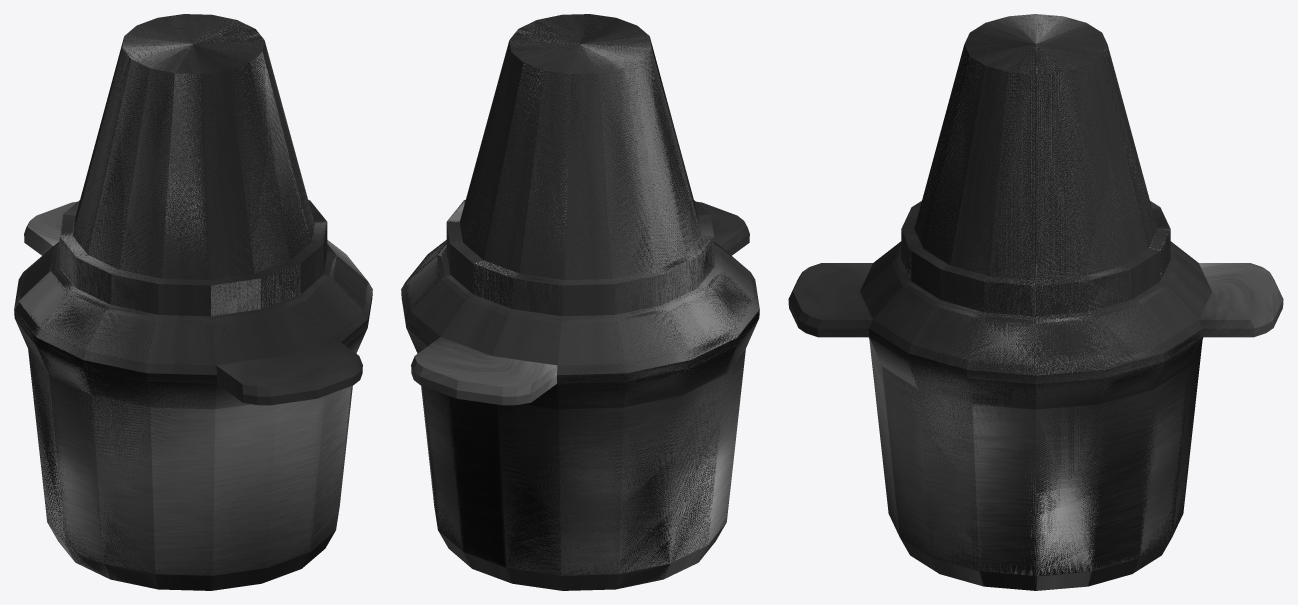
File: Chopper.fbx
3 views of the same model, side by side, from view 1: azimuth 30°, elevation 25°; view 2: azimuth 150°, elevation 25°; view 3: azimuth 270°, elevation 25° (orthographic).
Parts seen in each view (by area): view 1: Chopper; view 2: Chopper; view 3: Chopper.
Boxes of the visible parts, x1,y1,x2,y2 form: Chopper: [14, 14, 372, 590]; Chopper: [401, 14, 759, 590]; Chopper: [788, 14, 1283, 590].
Bounding box in the file's own units: 81.37 × 122 × 111.
